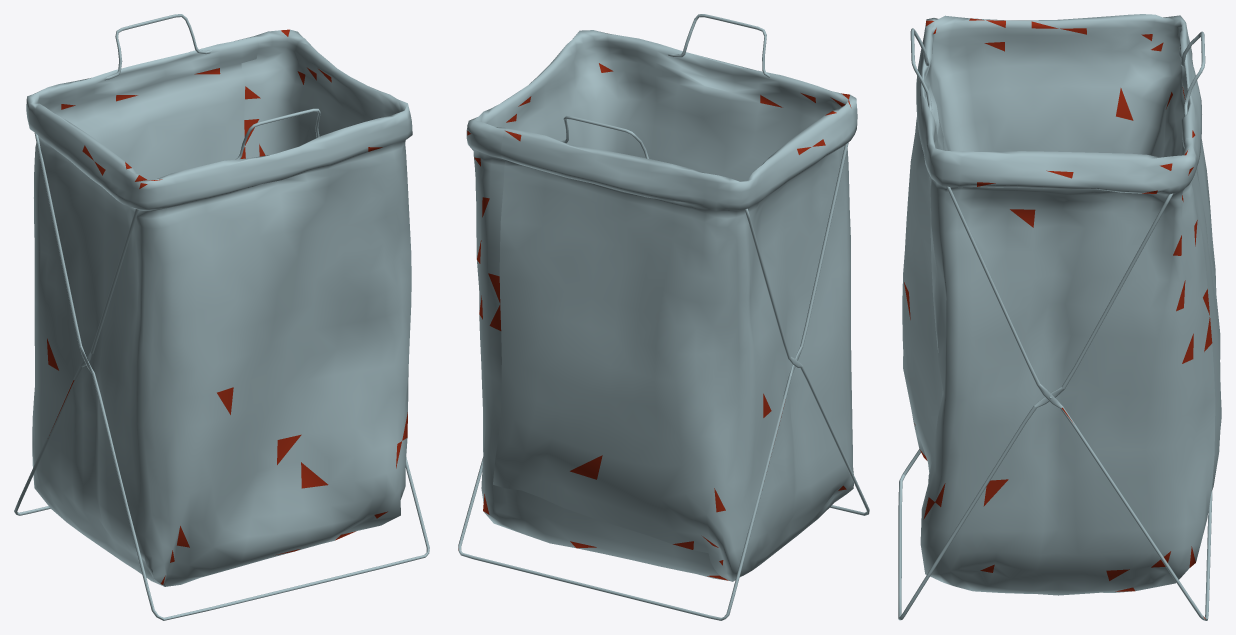
Rendered from 洗衣籃_1.fbx.
3 views of the same model, side by side, from view 1: azimuth 30°, elevation 25°; view 2: azimuth 150°, elevation 25°; view 3: azimuth 270°, elevation 25° (orthographic). The views are drawn at different scales.
Parts seen in each view (by area): view 1: 000-0-0; view 2: 000-0-0; view 3: 000-0-0.
Part boxes in pixels (bbox=[...]): 000-0-0: bbox=[14, 14, 429, 620]; 000-0-0: bbox=[458, 14, 869, 620]; 000-0-0: bbox=[898, 14, 1221, 620].
Size of the model in its own units: 46.26 by 72.27 by 41.84.
